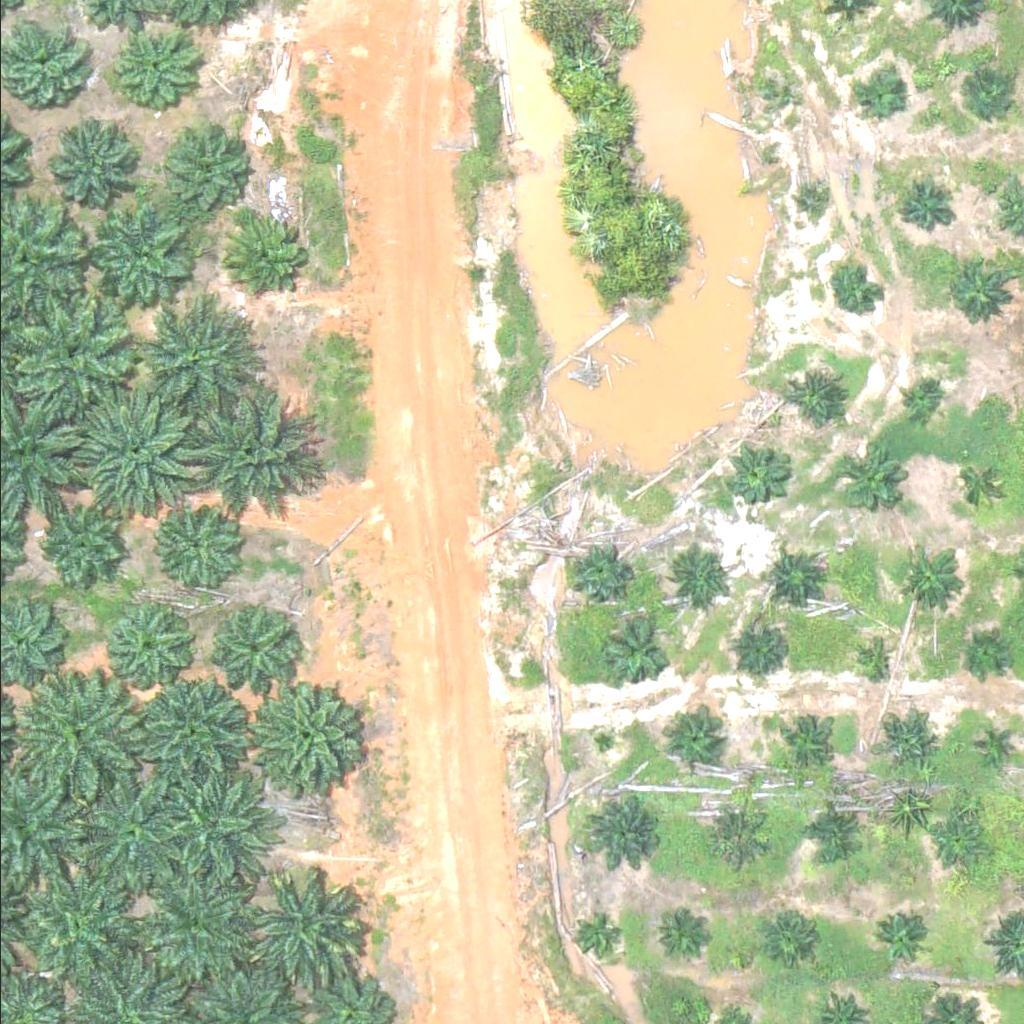Kelapa_Sawit: (242, 869, 368, 994), (134, 861, 260, 986), (6, 866, 132, 991), (65, 772, 191, 897), (145, 766, 271, 891), (125, 670, 251, 795), (192, 392, 318, 517), (71, 387, 197, 512), (136, 301, 262, 426), (11, 296, 137, 421), (15, 681, 140, 806), (251, 675, 365, 788), (89, 208, 190, 308), (149, 495, 249, 595), (161, 130, 249, 218), (106, 23, 194, 111), (105, 607, 193, 694), (204, 606, 292, 693), (32, 500, 120, 587), (218, 210, 306, 297), (42, 124, 130, 211), (584, 794, 660, 869), (597, 608, 673, 683), (880, 707, 943, 770), (839, 444, 902, 507), (662, 541, 725, 604), (730, 440, 793, 503), (661, 708, 724, 771), (565, 540, 628, 603), (898, 543, 961, 605), (950, 260, 1013, 322), (702, 807, 765, 869), (785, 363, 848, 425), (761, 548, 823, 610), (733, 615, 795, 677), (927, 813, 978, 863), (876, 908, 927, 958), (861, 67, 912, 117), (960, 71, 1011, 121), (763, 912, 814, 962), (806, 808, 856, 858), (896, 182, 946, 232), (829, 263, 879, 313), (653, 907, 703, 957), (783, 712, 833, 762), (572, 913, 622, 963), (958, 628, 1008, 678), (949, 459, 999, 509), (892, 374, 942, 424), (849, 644, 887, 682), (974, 723, 1012, 760), (801, 188, 826, 213), (767, 93, 792, 118)
